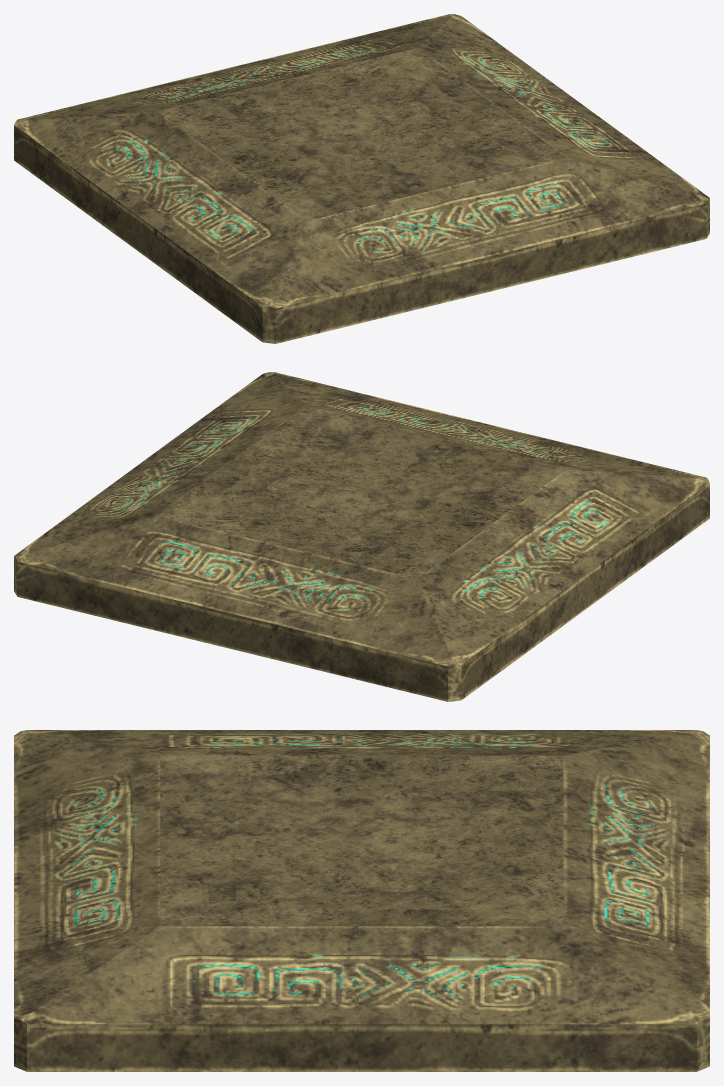
Rendered from Plate (2).fbx.
The picture shows the model from 3 angles, top to bottom: view 1: azimuth 30°, elevation 25°; view 2: azimuth 150°, elevation 25°; view 3: azimuth 270°, elevation 25°; orthographic projection. The views are drawn at different scales.
Visible parts, largest first — view 1: Plate.004; view 2: Plate.004; view 3: Plate.004.
Boxes of the visible parts, x1,y1,x2,y2 form: Plate.004: (14,14,709,343); Plate.004: (14,372,709,701); Plate.004: (14,730,709,1071).
Size of the model in its own units: 230 by 30.58 by 230.
